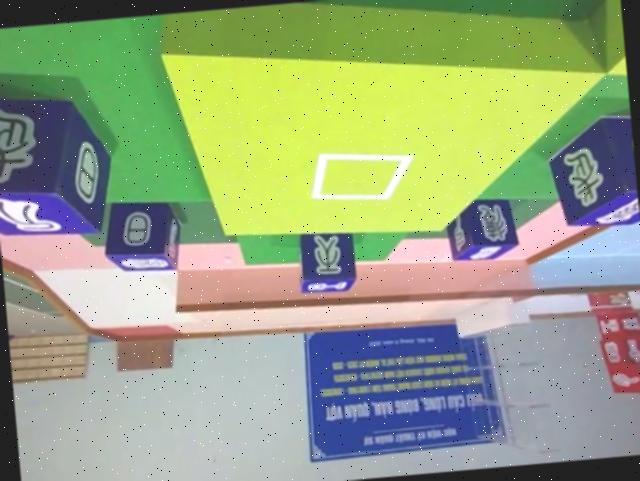R2 Fake Blue: (0, 84, 117, 241), (542, 112, 640, 231), (99, 194, 184, 274), (443, 192, 520, 260), (291, 227, 356, 295)
